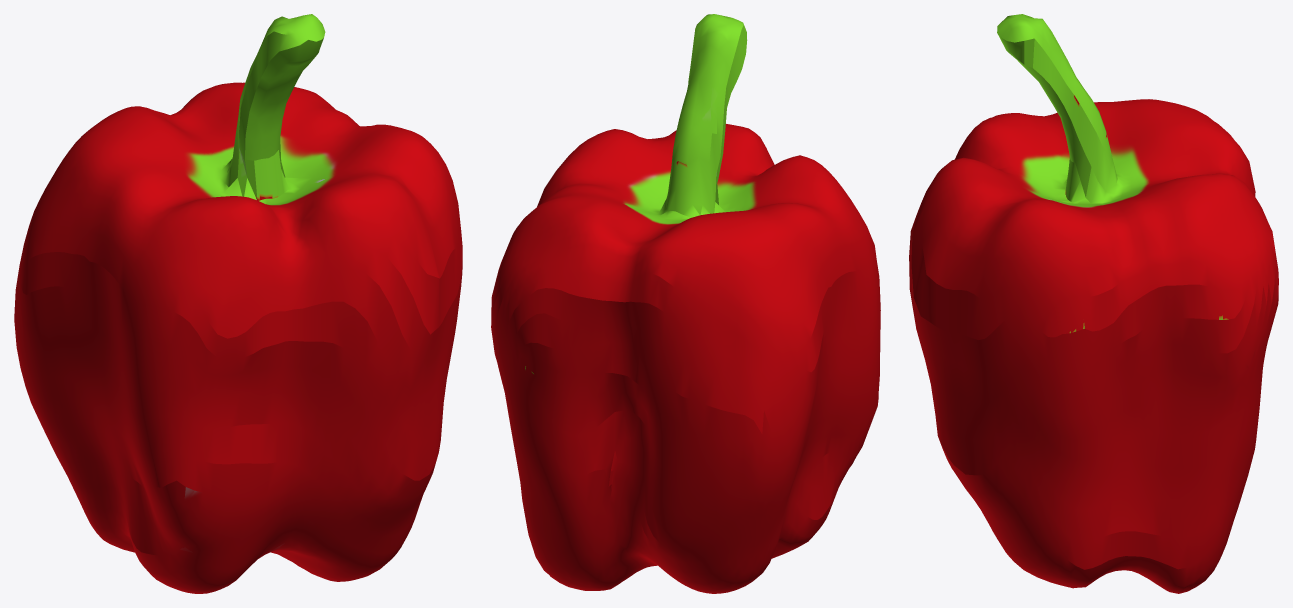
The model's file is Paprika 1.fbx.
3 renders of one model, left to right at view 1: azimuth 30°, elevation 25°; view 2: azimuth 150°, elevation 25°; view 3: azimuth 270°, elevation 25°, orthographic. The views are drawn at different scales.
Parts seen in each view (by area): view 1: Cylinder; view 2: Cylinder; view 3: Cylinder.
Part boxes in pixels (x1,y1,x2,y2): Cylinder: (14,14,462,593); Cylinder: (491,14,880,593); Cylinder: (909,14,1278,593).
Bounding box in the file's own units: 289 × 452 × 281.
